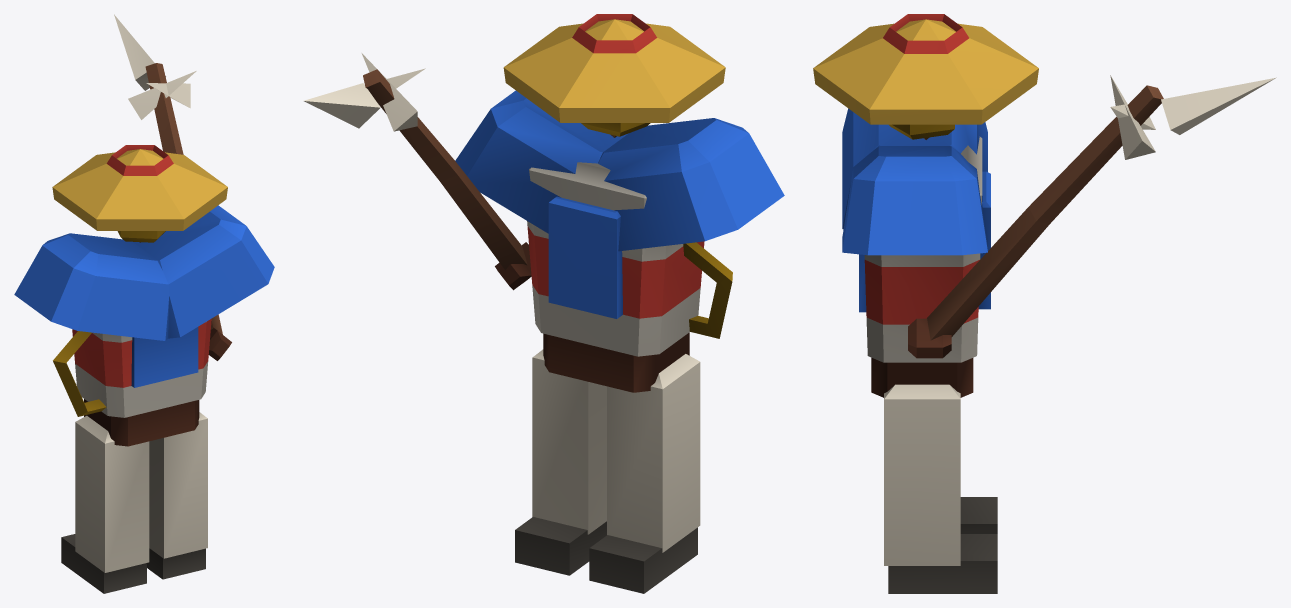
3 views of the same model, side by side, from view 1: azimuth 30°, elevation 25°; view 2: azimuth 150°, elevation 25°; view 3: azimuth 270°, elevation 25° (orthographic). The views are drawn at different scales.
Parts seen in each view (by area): view 1: body, swingL, swingR; view 2: body, swingL, swingR; view 3: body, swingR, swingL.
Part boxes in pixels (bbox=[...]): body: bbox=[14, 14, 274, 446]; swingL: bbox=[61, 415, 149, 593]; swingR: bbox=[147, 412, 207, 579]; body: bbox=[303, 14, 784, 392]; swingL: bbox=[589, 354, 700, 593]; swingR: bbox=[515, 349, 606, 575]; body: bbox=[813, 14, 1276, 397]; swingR: bbox=[884, 384, 997, 593]; swingL: bbox=[960, 497, 997, 533].
Bounding box in the file's own units: 0.5018 × 0.8374 × 0.6362.
